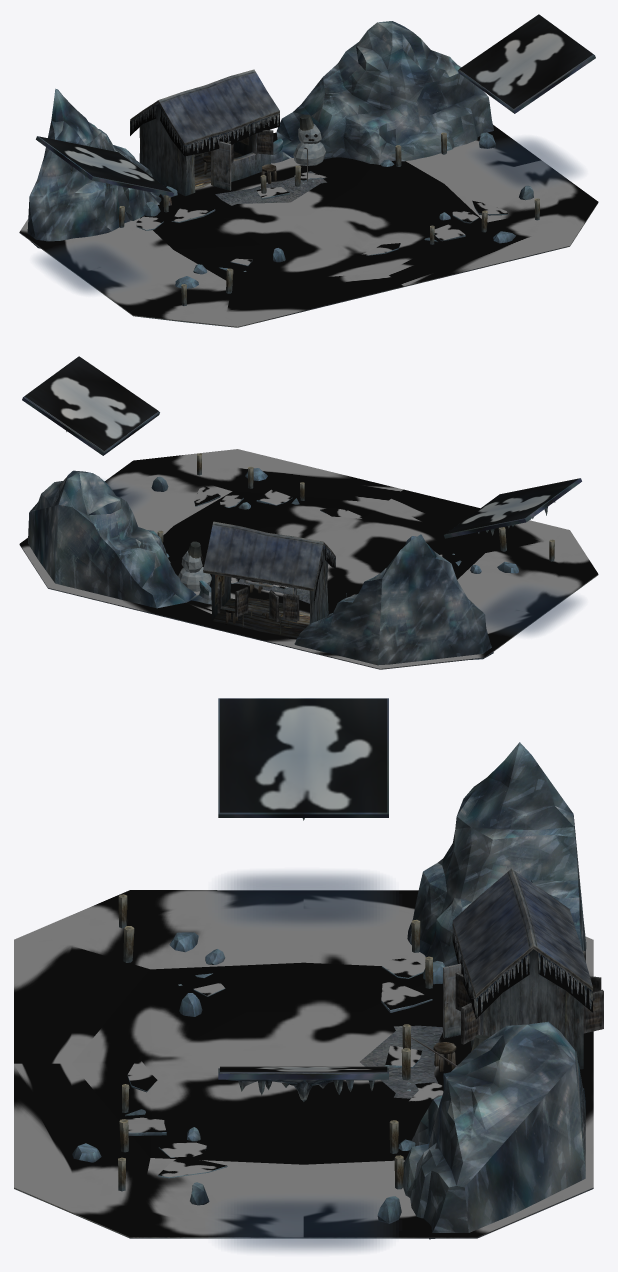
Rendered from floor-ice.glb.
3 renders of one model, top to bottom at view 1: azimuth 30°, elevation 25°; view 2: azimuth 150°, elevation 25°; view 3: azimuth 270°, elevation 25°, orthographic. The views are drawn at different scales.
Visible parts, largest first — view 1: NShadow1, StgStadium00Koori (×16), NShadowB1, NShadowB2, otachidaiR (×2), otachidaiL; view 2: StgStadium00Koori (×13), NShadow1, NShadowB1, NShadowB2, otachidaiR (×2), otachidaiL; view 3: NShadow1, StgStadium00Koori (×14), NShadowB2, otachidaiL, otachidaiR (×2), NShadowB1.
Boxes of the visible parts, x1,y1,x2,y2 form: NShadow1: (19, 125, 598, 326); StgStadium00Koori (×16): (19, 21, 598, 327); NShadowB1: (459, 14, 593, 108); NShadowB2: (39, 136, 172, 192); otachidaiR (×2): (458, 15, 595, 113); otachidaiL: (36, 136, 173, 196); StgStadium00Koori (×13): (19, 453, 598, 669); NShadow1: (20, 449, 597, 668); NShadowB1: (24, 356, 158, 450); NShadowB2: (445, 478, 578, 534); otachidaiR (×2): (22, 357, 159, 455); otachidaiL: (444, 478, 581, 538); NShadow1: (14, 890, 593, 1237); StgStadium00Koori (×14): (14, 742, 603, 1252); NShadowB2: (220, 698, 387, 812); otachidaiL: (218, 698, 388, 817); otachidaiR (×2): (218, 1068, 388, 1101); NShadowB1: (220, 1066, 387, 1071).
Size of the model in its own units: 164 by 40.48 by 104.
25 materials, 25 textured.
